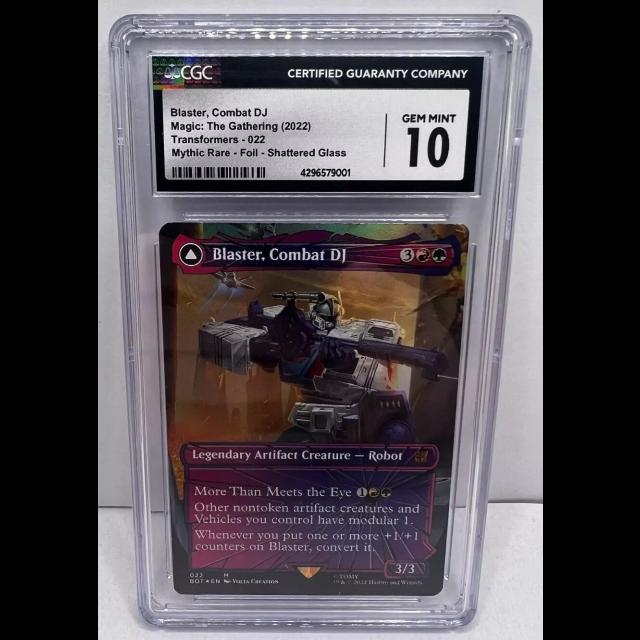card: (157, 221, 470, 597)
cgc_label: (150, 55, 485, 194)
cgc_slab: (107, 13, 535, 628)
